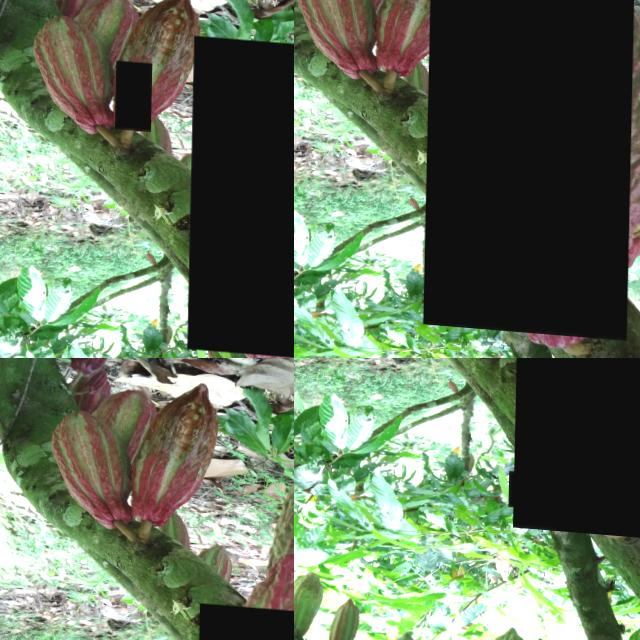Monilia: (189, 31, 294, 355)
Sana: (425, 0, 634, 333), (515, 358, 640, 531), (178, 553, 227, 613), (116, 58, 153, 129), (294, 571, 327, 626), (327, 596, 360, 640), (511, 467, 538, 505), (485, 624, 529, 640)
